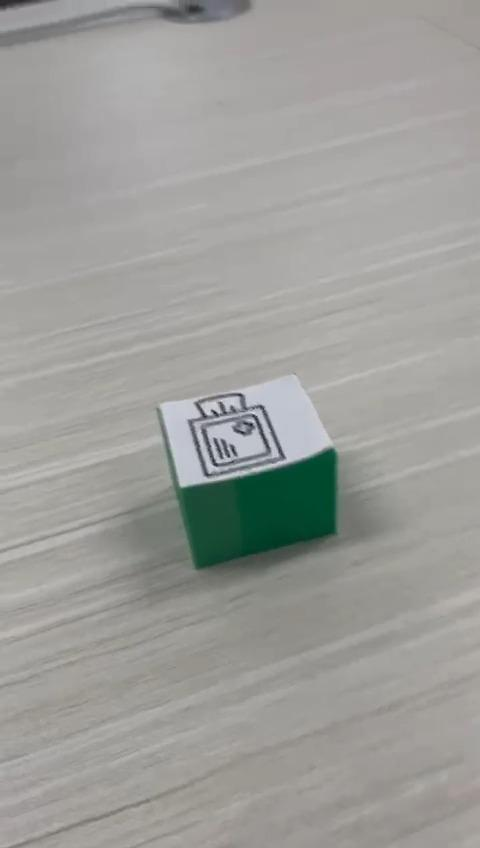Gauze: (154, 371, 339, 569)
